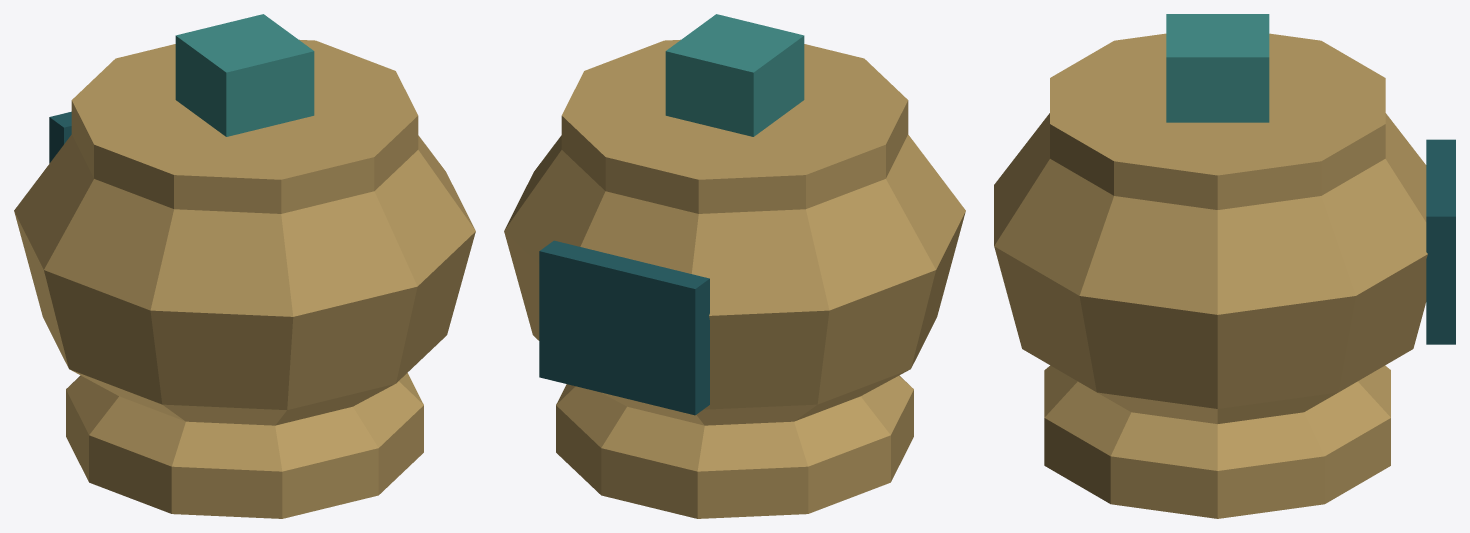
File: VIC_L09_KEEPSAKE_Roblox.fbx
The picture shows the model from 3 angles, left to right: view 1: azimuth 30°, elevation 25°; view 2: azimuth 150°, elevation 25°; view 3: azimuth 270°, elevation 25°; orthographic projection.
Parts seen in each view (by area): view 1: VIC_L09_KEEPSAKE__Brass, VIC_L09_KEEPSAKE__Gem, VIC_L09_KEEPSAKE__Teal; view 2: VIC_L09_KEEPSAKE__Brass, VIC_L09_KEEPSAKE__Teal, VIC_L09_KEEPSAKE__Gem; view 3: VIC_L09_KEEPSAKE__Brass, VIC_L09_KEEPSAKE__Gem, VIC_L09_KEEPSAKE__Teal.
Boxes of the visible parts, bbox=[...] form: VIC_L09_KEEPSAKE__Brass: bbox=[14, 39, 475, 518]; VIC_L09_KEEPSAKE__Gem: bbox=[175, 14, 314, 136]; VIC_L09_KEEPSAKE__Teal: bbox=[49, 111, 71, 163]; VIC_L09_KEEPSAKE__Brass: bbox=[504, 39, 965, 518]; VIC_L09_KEEPSAKE__Teal: bbox=[539, 240, 709, 415]; VIC_L09_KEEPSAKE__Gem: bbox=[665, 14, 804, 136]; VIC_L09_KEEPSAKE__Brass: bbox=[994, 33, 1427, 518]; VIC_L09_KEEPSAKE__Gem: bbox=[1166, 14, 1269, 122]; VIC_L09_KEEPSAKE__Teal: bbox=[1426, 139, 1455, 344].
Size of the model in its own units: 1.6 by 1.53 by 1.57.
